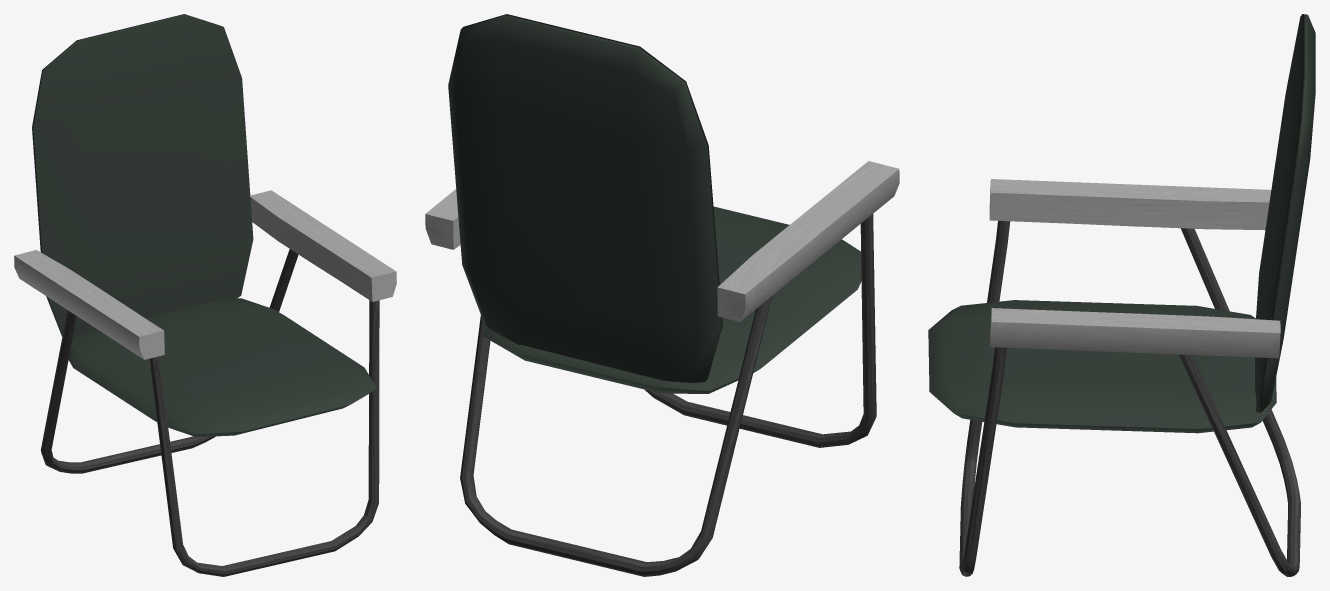
Rendered from chair.fbx.
3 renders of one model, left to right at view 1: azimuth 30°, elevation 25°; view 2: azimuth 150°, elevation 25°; view 3: azimuth 270°, elevation 25°, orthographic. The views are drawn at different scales.
Visible parts, largest first — view 1: chair; view 2: chair; view 3: chair.
Part boxes in pixels (x1,y1,x2,y2): chair: (14, 14, 396, 576); chair: (425, 14, 899, 576); chair: (928, 14, 1315, 576).
Bounding box in the file's own units: 53.68 × 85.47 × 60.25.
